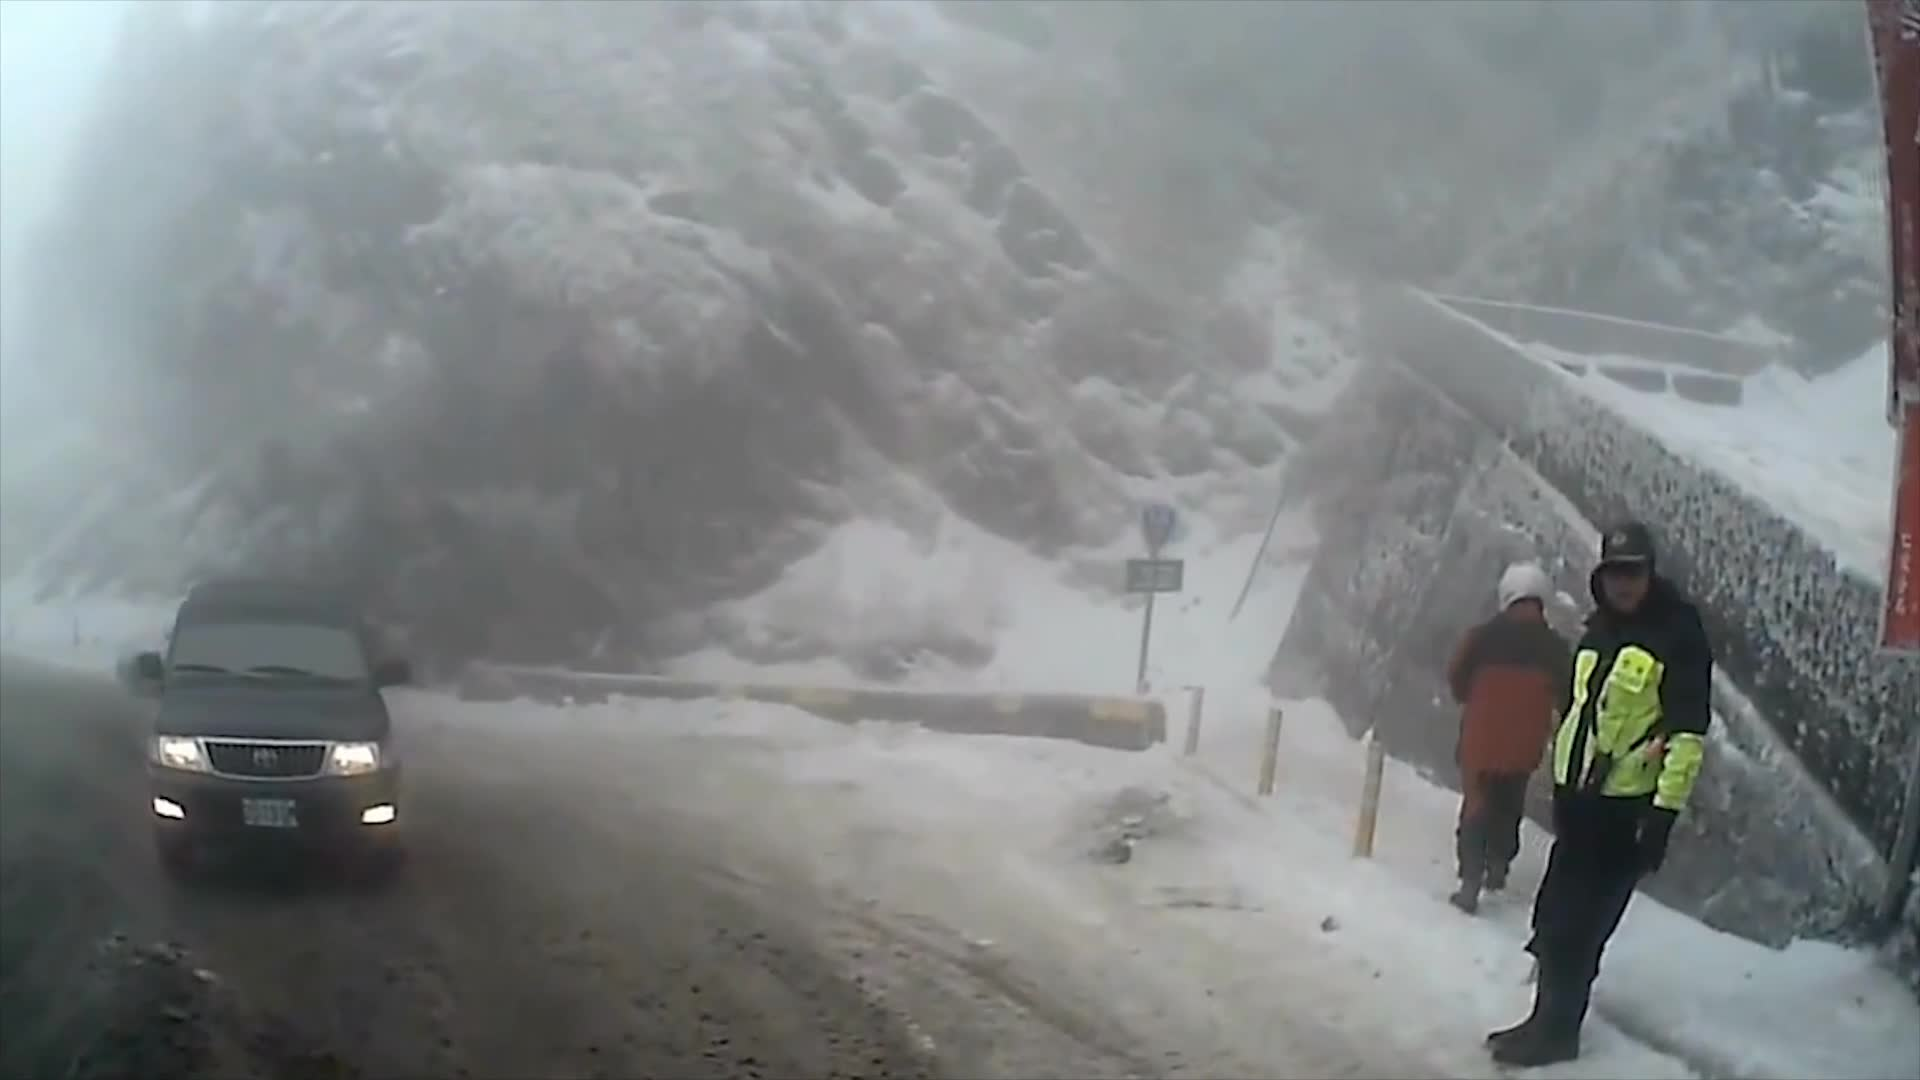pedestrian: (1497, 524, 1724, 1067), (1449, 560, 1586, 913)
vehicle: (136, 579, 412, 881)
